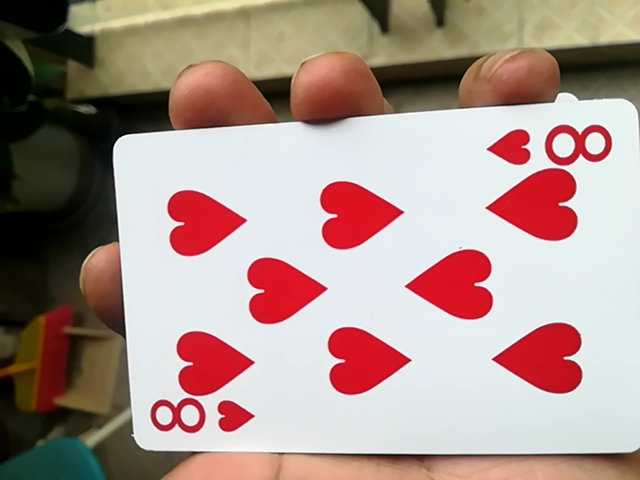hx 8: (106, 110, 632, 467)
